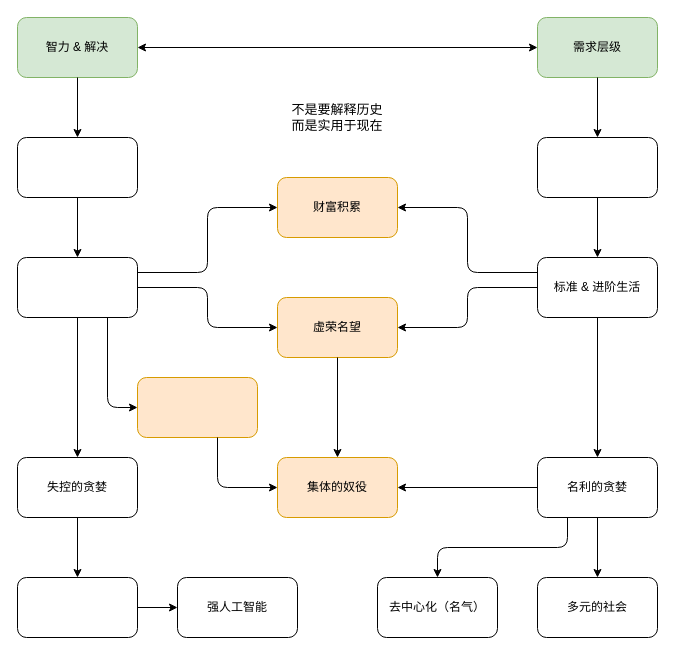
This 675x655 diagram has some shape labels left out. Here are the shapes that lost their labels. From the top down, the centre of each, then its label:
At [77,167]: "无奈的极端".
At [597,167]: "生存".
At [77,287]: "实用的线性".
At [197,407]: "传统 & 权威".
At [77,607]: "痛苦的顿悟".
